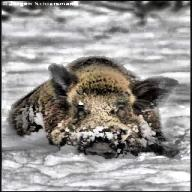boar: (8, 56, 178, 160)
